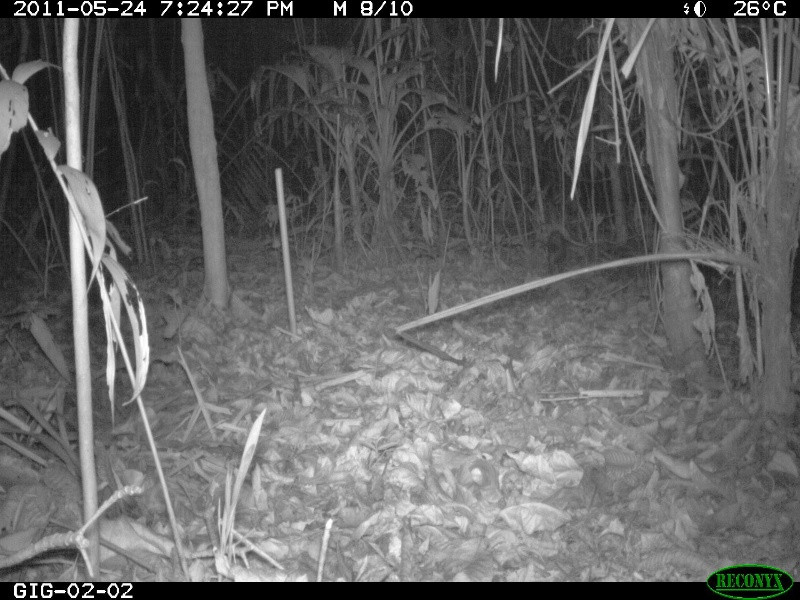opossum: (546, 230, 566, 263)
